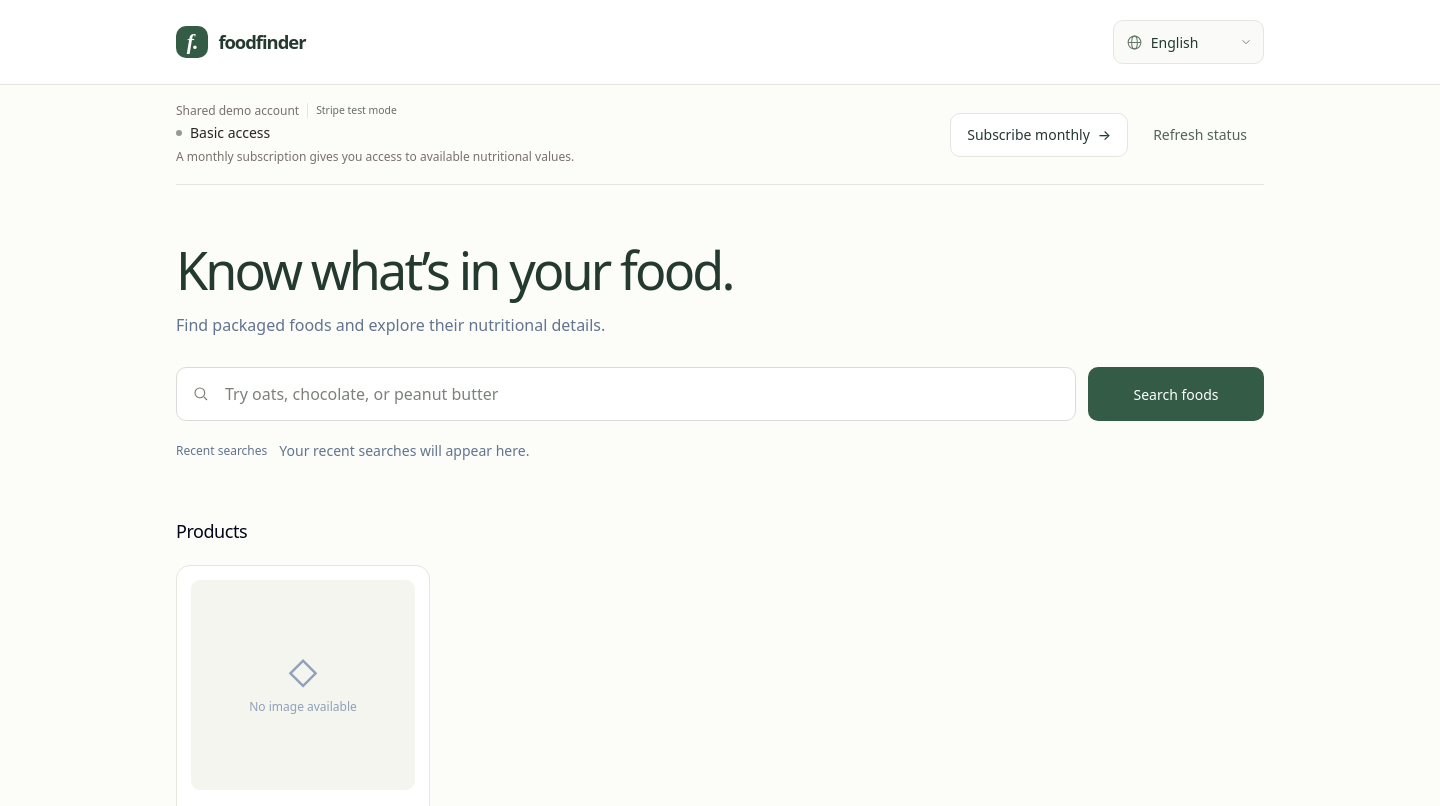
Test: submits a search through the backend and translates the interface
Type "oats" into the field at {"x": 626, "y": 394}, box x1=176 y1=367 x2=1076 y2=421
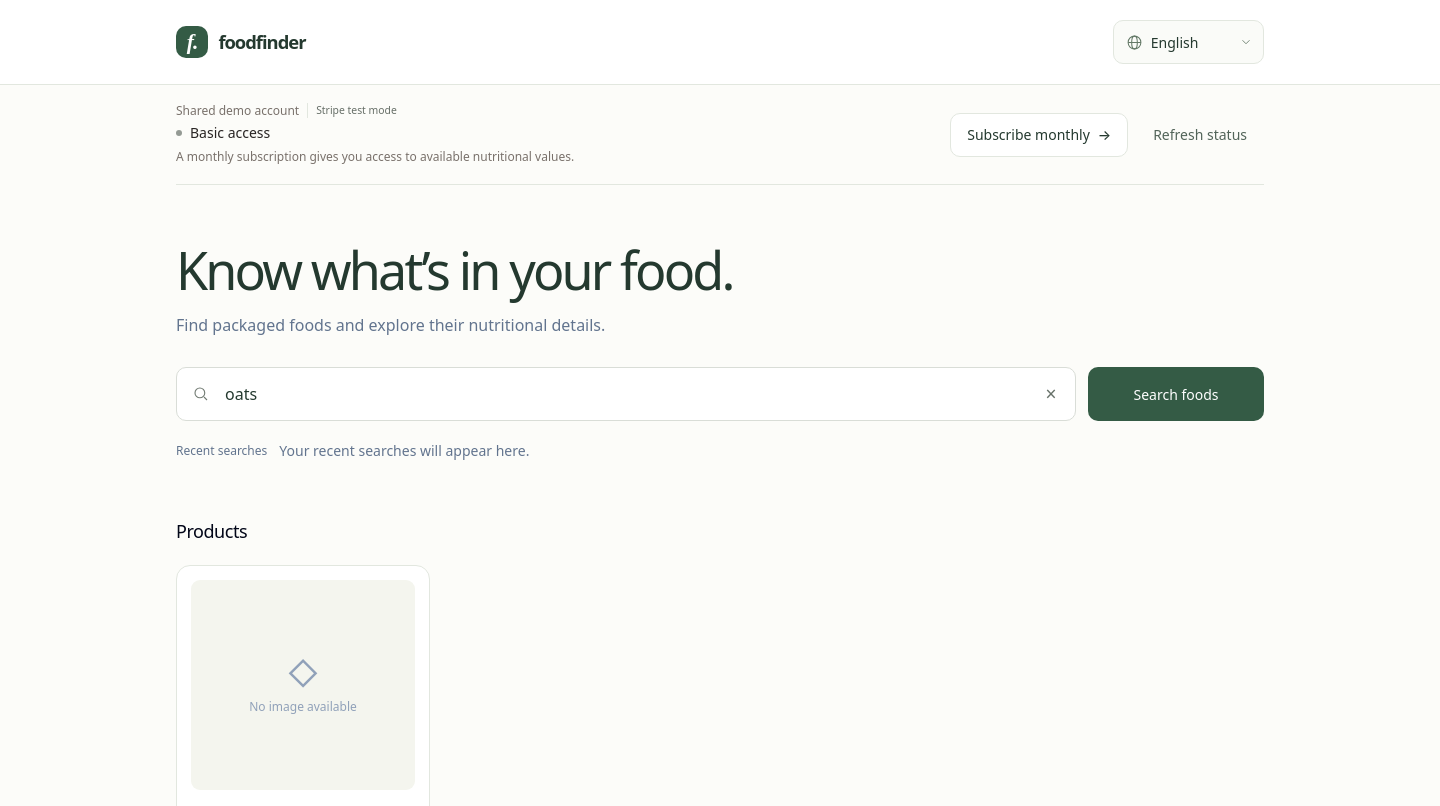
Click the button "Search foods" at {"x": 1176, "y": 394}, box x1=1088 y1=367 x2=1264 y2=421
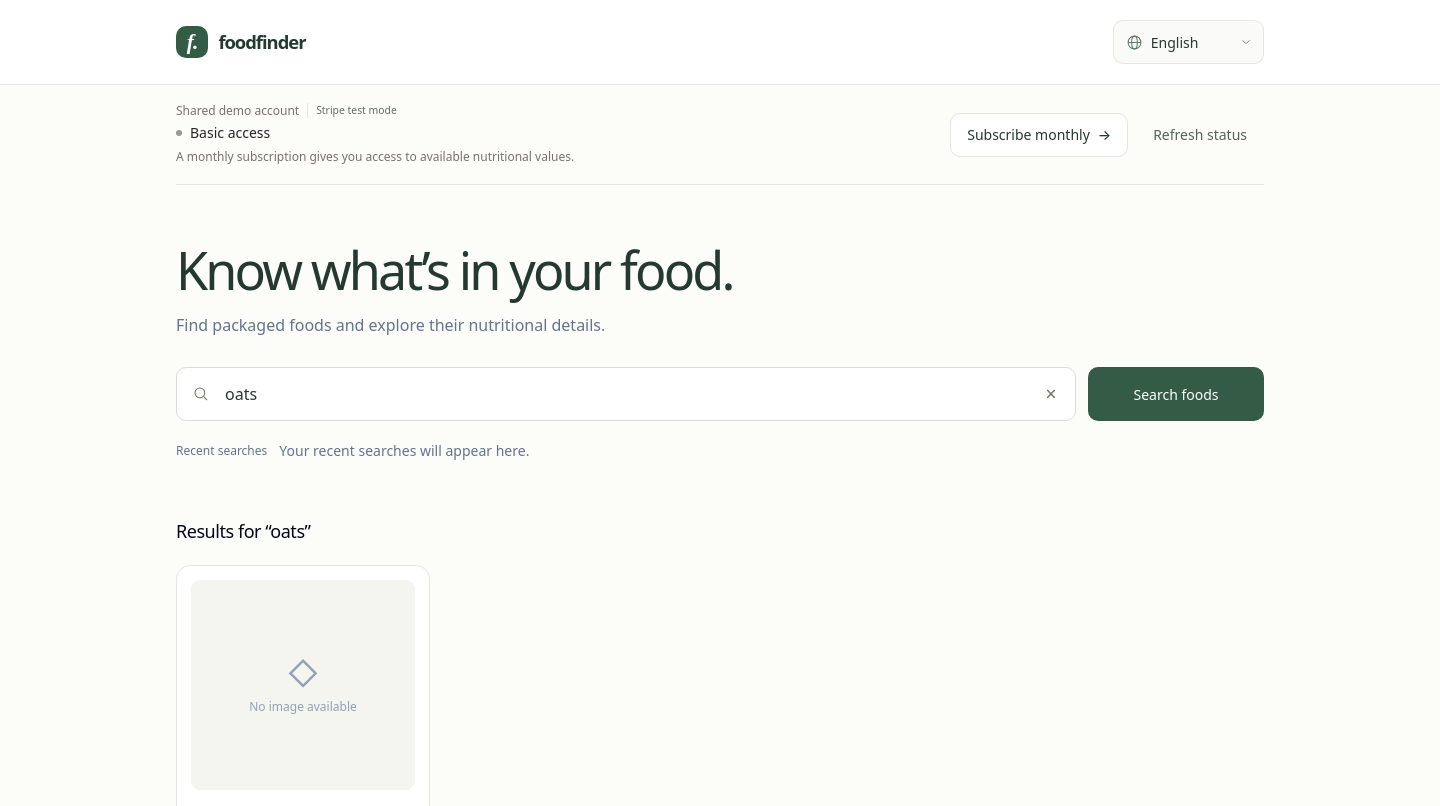
Select "Nederlands" in the dropdown at {"x": 1188, "y": 42}, box x1=1113 y1=20 x2=1264 y2=64
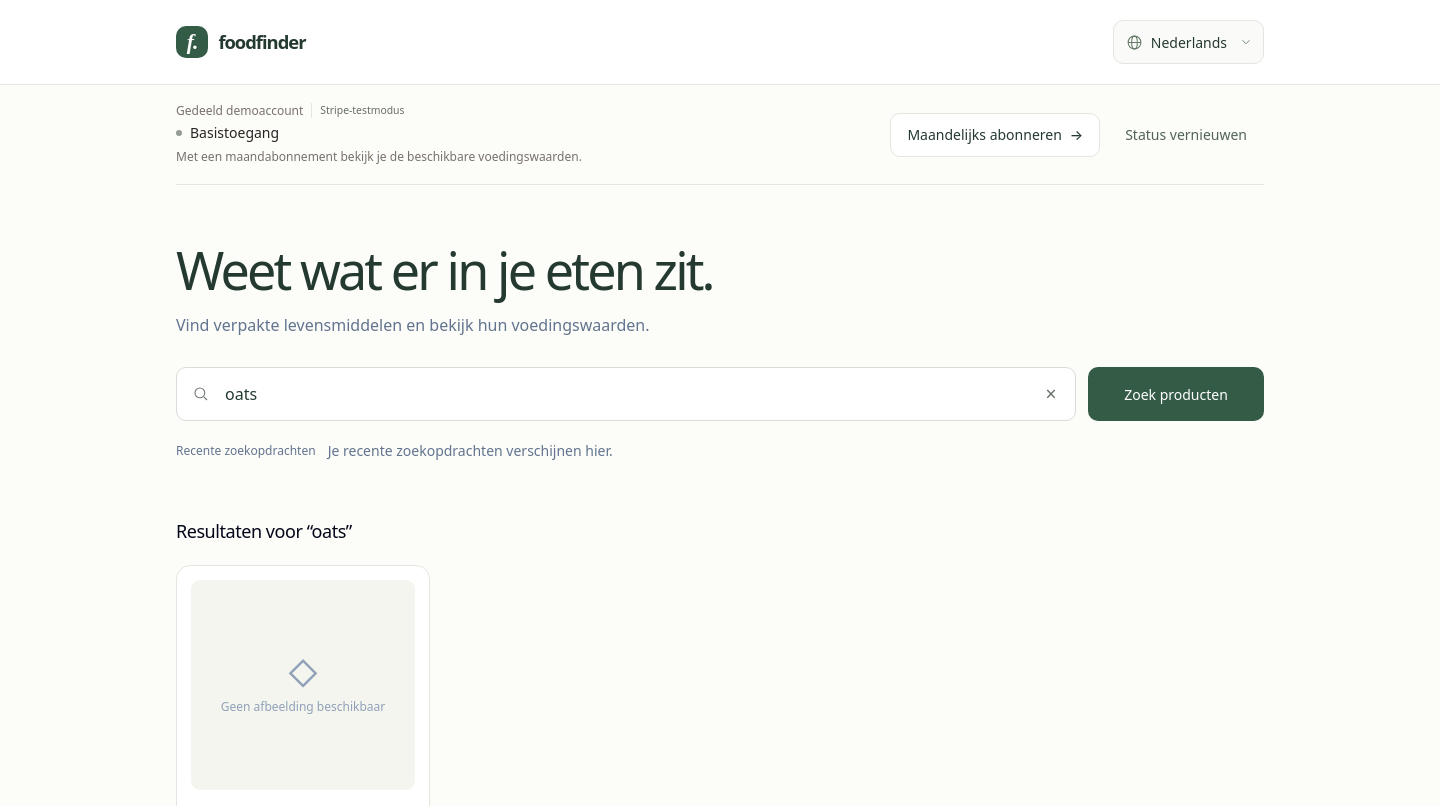
Expected: the heading "Weet wat er in je eten zit." is shown, x1=176 y1=241 x2=796 y2=299
